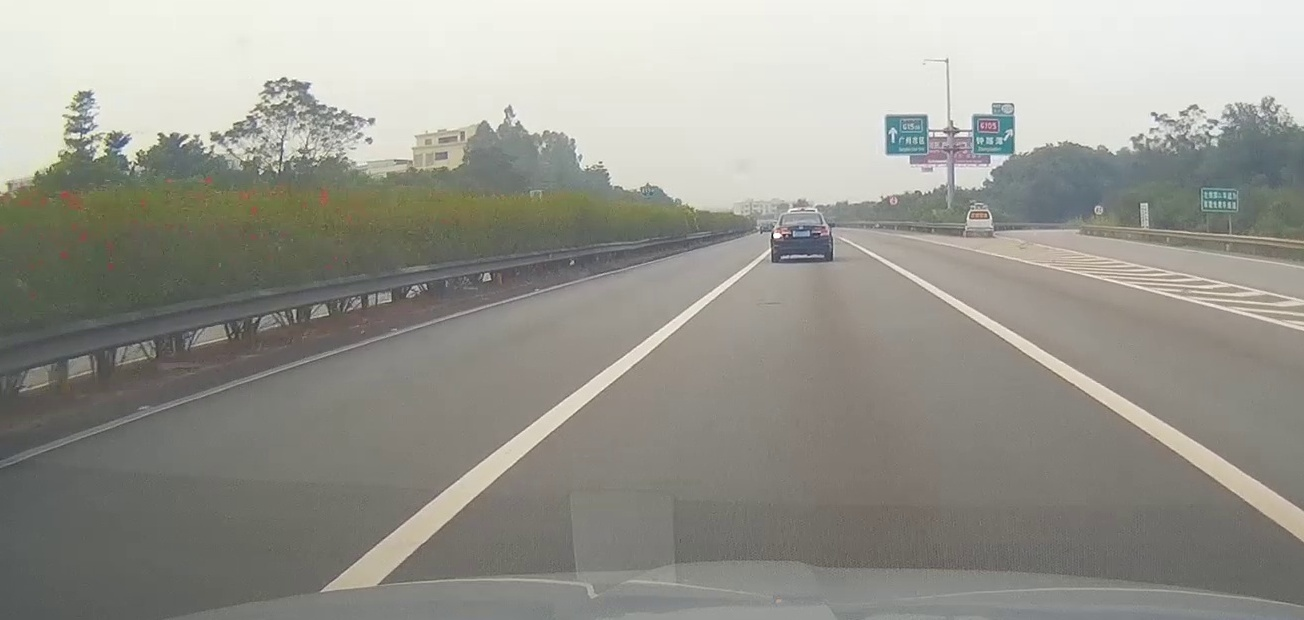L_light: (773, 228, 791, 238)
R_light: (811, 227, 830, 236)
T_light: (797, 214, 807, 216)
day-left: (770, 212, 833, 262)
